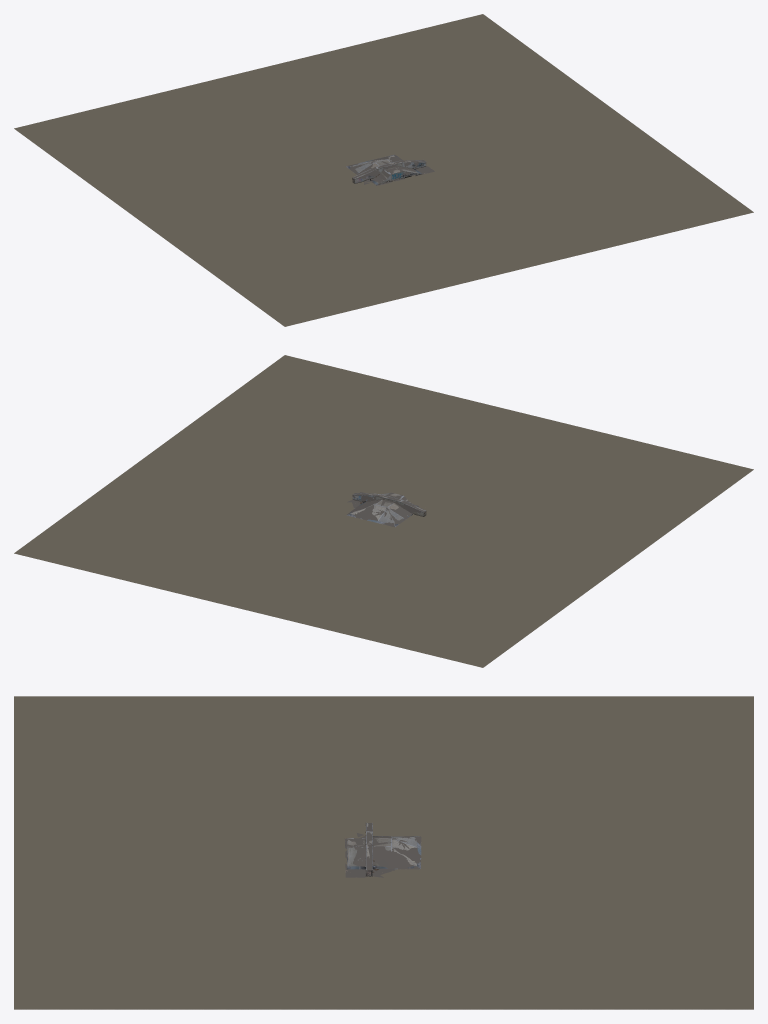
The model's file is funbox.glb.
3 renders of one model, top to bottom at view 1: azimuth 30°, elevation 25°; view 2: azimuth 150°, elevation 25°; view 3: azimuth 270°, elevation 25°, orthographic. The views are drawn at different scales.
Visible parts, largest first — view 1: COL_Ground, COL_Funbox, ENV_Concrete_ground@q#0; view 2: COL_Ground, COL_Funbox, ENV_Concrete_ground@q#0; view 3: COL_Ground, COL_Funbox, ENV_Concrete_ground@q#0.
Boxes of the visible parts, x1=… form: COL_Ground: x1=14, y1=14, x2=753, y2=326; COL_Funbox: x1=346, y1=155, x2=434, y2=185; ENV_Concrete_ground@q#0: x1=15, y1=129, x2=753, y2=326; COL_Ground: x1=14, y1=355, x2=753, y2=667; COL_Funbox: x1=347, y1=492, x2=425, y2=527; ENV_Concrete_ground@q#0: x1=14, y1=470, x2=752, y2=667; COL_Ground: x1=14, y1=696, x2=753, y2=1009; COL_Funbox: x1=344, y1=823, x2=421, y2=877; ENV_Concrete_ground@q#0: x1=14, y1=1009, x2=753, y2=1009.
Size of the model in its own units: 40 by 0.9126 by 40.
Materials: 3 (3 with a texture image).
